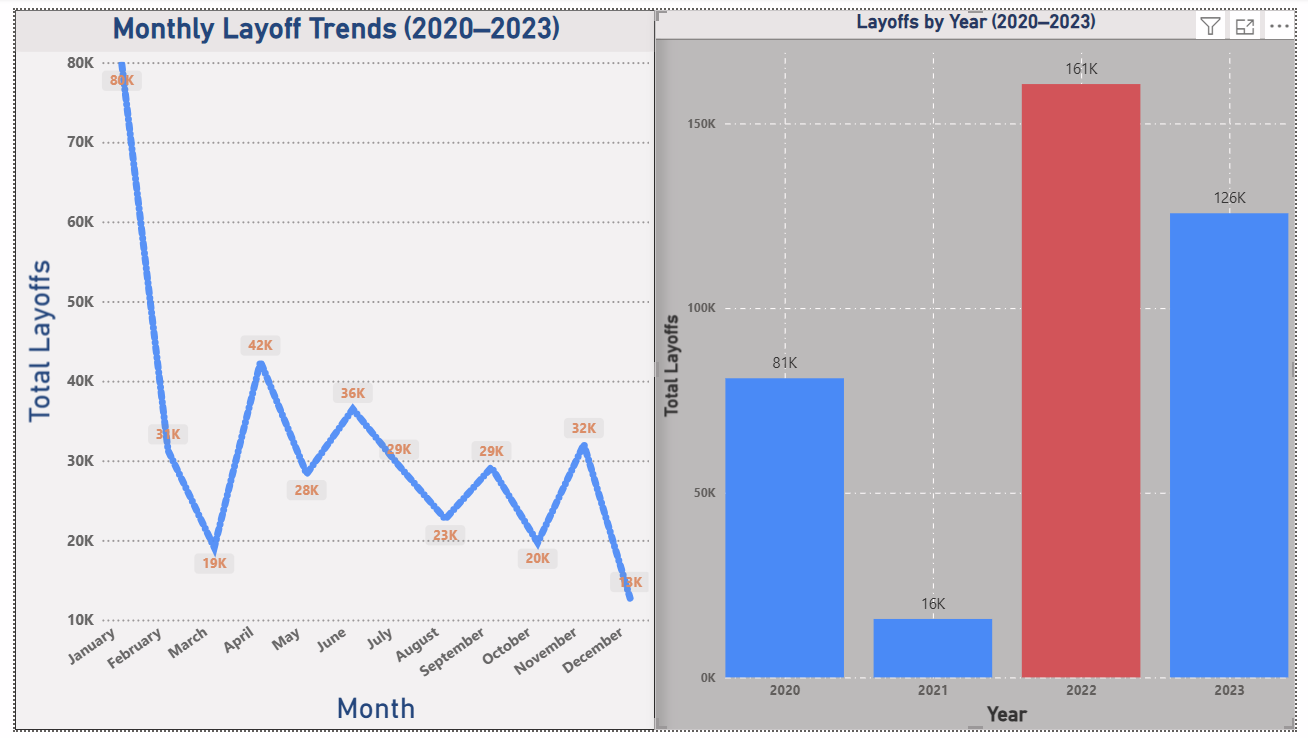

Layout of this report page (visuals, bound fields, positions):
{"tool":"powerbi","page":{"name":"Overview","canvas":[1280,720],"ordinal":0},"visuals":[{"type":"lineChart","title":"Monthly Layoff Trends (2020–2023)","fields":{"Category":["monthly_trends.month.Variation.Date Hierarchy.Month"],"Y":["Sum(monthly_trends.monthly_total)"]},"box":[0,0,640,720],"z":0},{"type":"clusteredColumnChart","title":"Layoffs by Year (2020–2023)","fields":{"Category":["yearly_trends.year"],"Y":["Sum(yearly_trends.total_layoffs)"]},"box":[640,0,640,720],"z":1000}]}

Visuals, with their boxes in screenshot pixels (x1, y1, x2, y2), scaled from the page's 1280x720 canvas onto the 1308x738 screenshot:
"Monthly Layoff Trends (2020–2023)" lineChart: x1=0 y1=0 x2=654 y2=737
"Layoffs by Year (2020–2023)" clusteredColumnChart: x1=654 y1=0 x2=1307 y2=737
